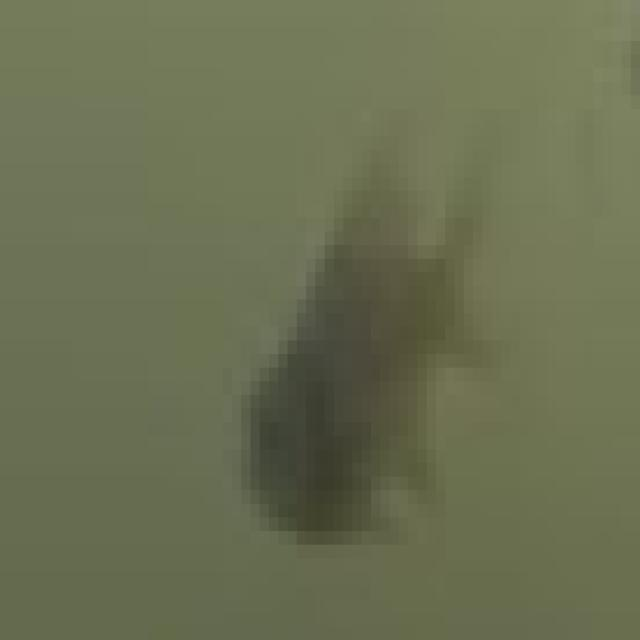Glass-Perchlet: (138, 133, 567, 626)
